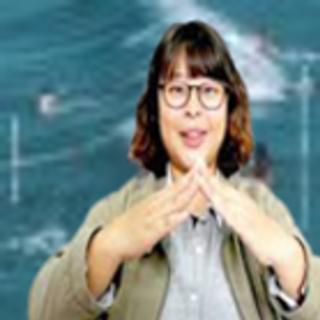HOME: (113, 153, 285, 268)
